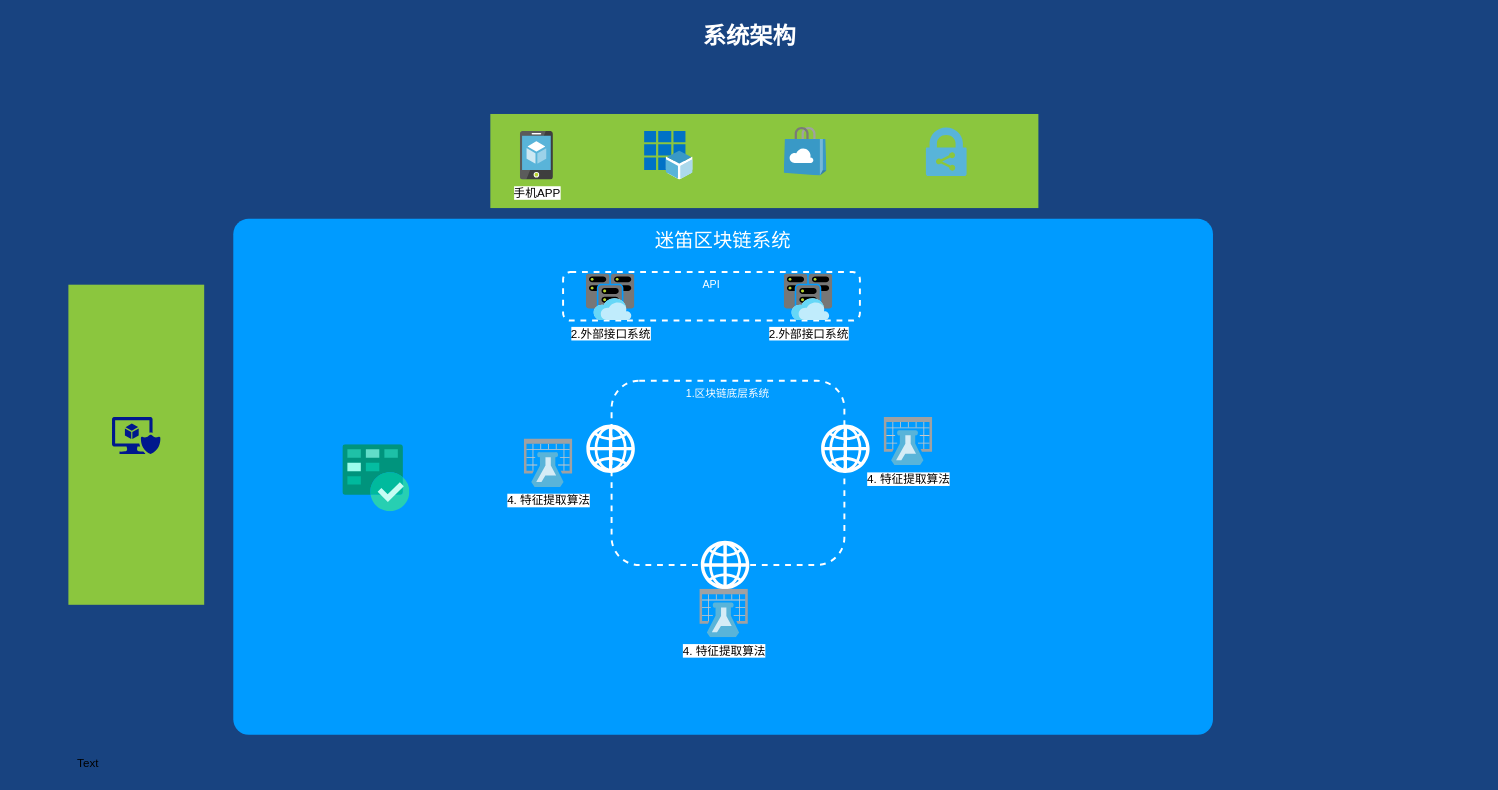
This 1498x790 diagram has some shape labels left out. Each missing label, with the centre of its shape:
"3.后台管理系统" belongs at point 375,477.
"中国联通" belongs at point 805,151.
"国家版权中心" belongs at point 668,155.
"桌面浏览器" belongs at point 136,435.
"网易云音乐" belongs at point 945,151.
